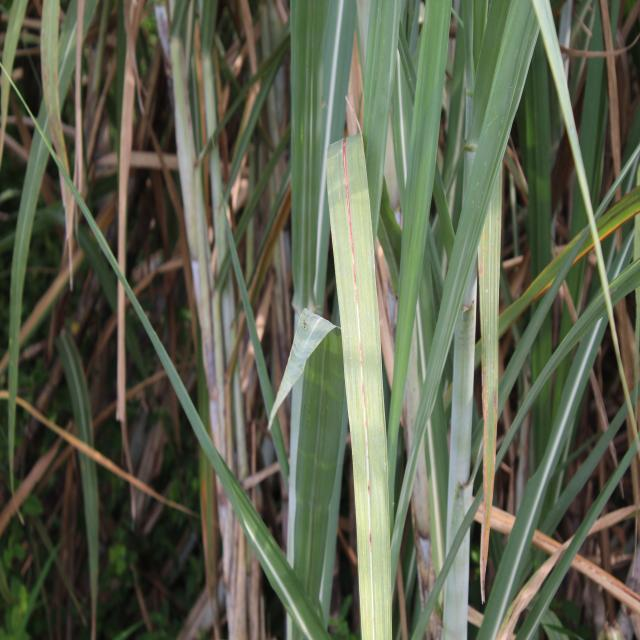Sugarcane: (397, 0, 548, 633), (353, 1, 444, 633), (157, 0, 227, 639), (5, 2, 90, 523), (492, 240, 638, 497), (503, 388, 638, 640), (334, 130, 389, 639), (202, 434, 331, 639), (521, 2, 615, 276), (451, 1, 541, 282), (468, 2, 506, 611), (220, 197, 290, 491), (71, 214, 169, 408), (396, 3, 454, 319), (210, 23, 291, 215), (304, 323, 351, 640), (195, 0, 234, 310), (289, 0, 325, 318), (360, 4, 402, 275), (312, 1, 355, 261), (420, 350, 451, 632), (0, 0, 32, 219), (522, 12, 557, 204), (613, 18, 639, 269), (558, 0, 592, 183), (442, 0, 469, 230), (72, 216, 121, 325), (390, 15, 414, 219), (104, 0, 129, 195), (83, 0, 113, 150), (396, 3, 418, 104)
